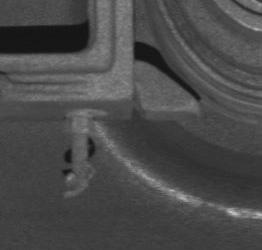Nut_s: (62, 110, 96, 136)
Plug: (133, 60, 200, 121)
Screw_s: (71, 137, 90, 191)
